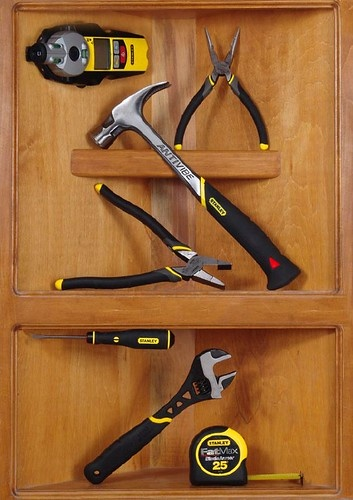hammer: (92, 81, 304, 289)
